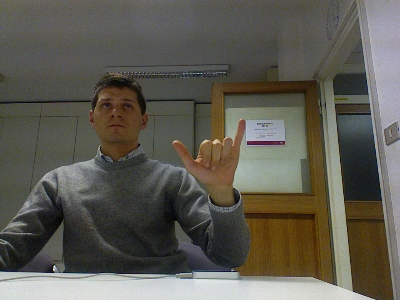六六六: (170, 117, 246, 188)
